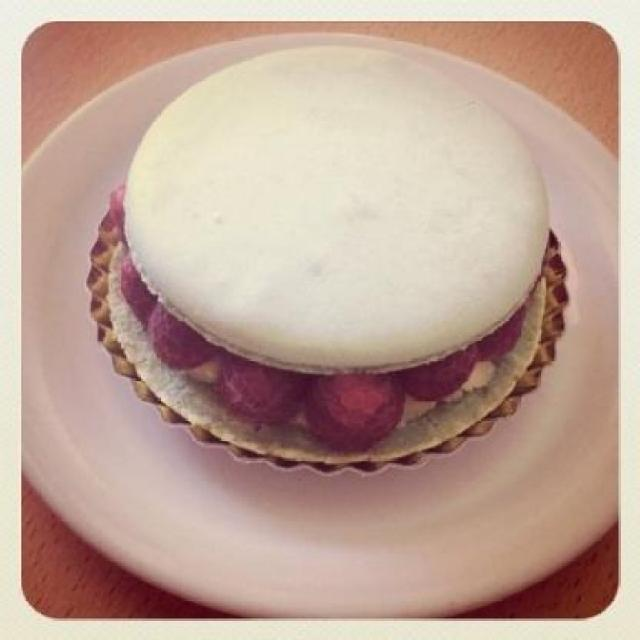Apple pie: (103, 41, 562, 462)
